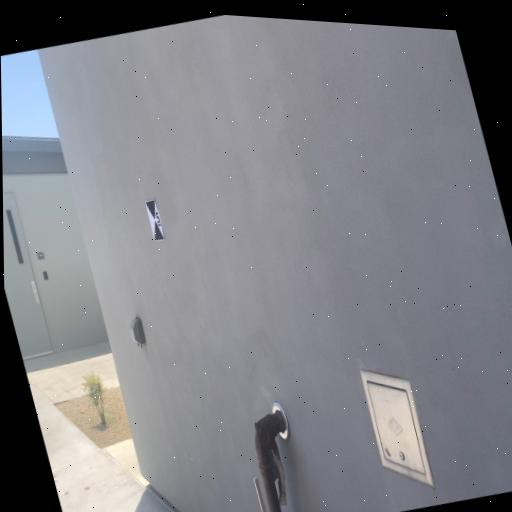target5: (144, 197, 167, 241)
